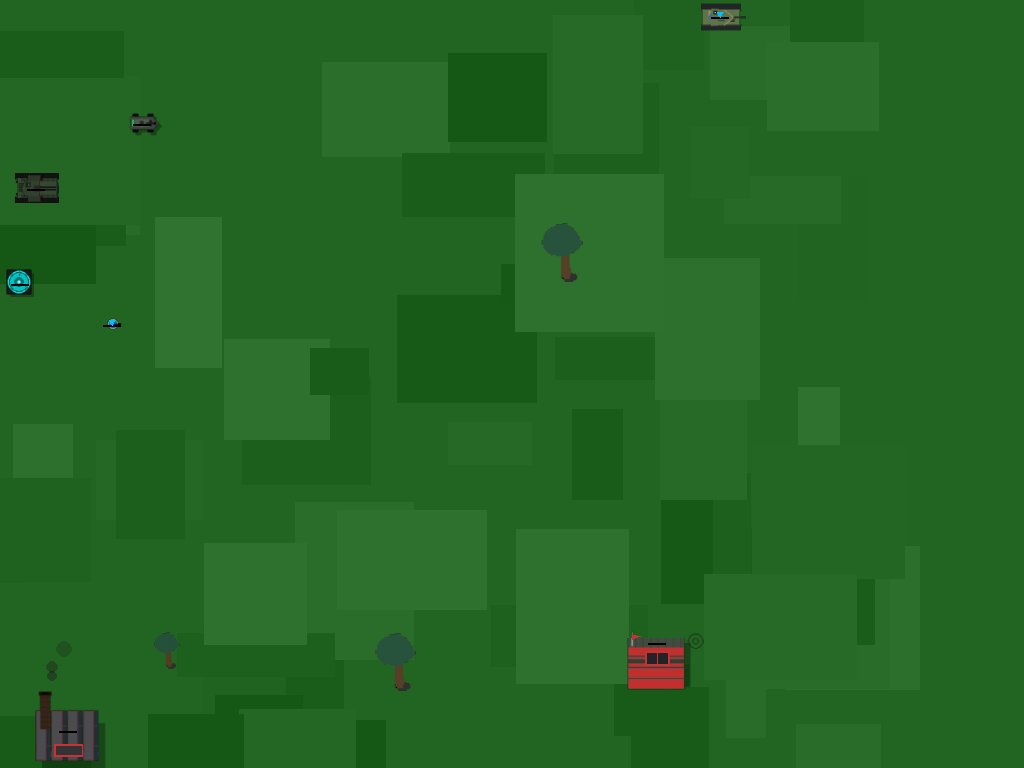APC_rus: (619, 605, 694, 680)
Airfield: (697, 0, 744, 47)
AntiAirTurret: (24, 686, 111, 768)
AttackPlane_chn: (0, 261, 43, 304)
M1A2_usa: (127, 108, 157, 138)
Mi24: (17, 168, 56, 207)
PowerPlant: (99, 310, 126, 337)
